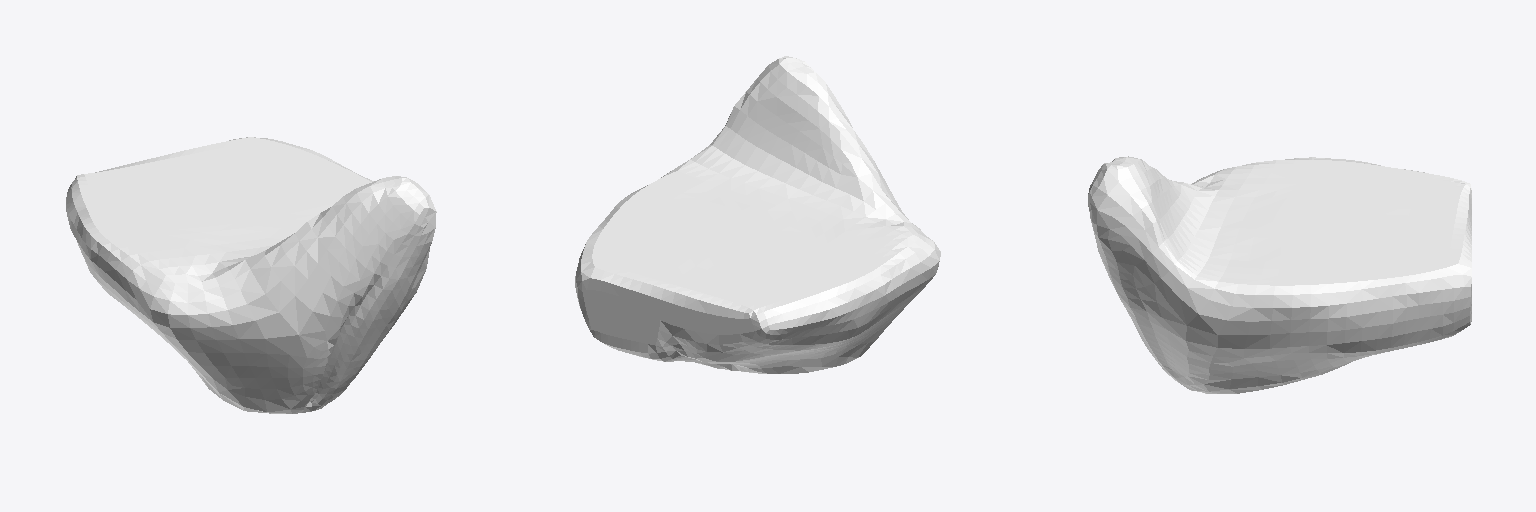
File: land_B.obj
The picture shows the model from 3 angles: view 1: azimuth 30°, elevation 25°; view 2: azimuth 150°, elevation 25°; view 3: azimuth 270°, elevation 25°; orthographic projection.
Visible parts, largest first — view 1: Volume65; view 2: Volume65; view 3: Volume65.
Boxes of the visible parts, <box> form: Volume65: <box>66,137,436,413</box>; Volume65: <box>575,56,940,373</box>; Volume65: <box>1088,156,1471,393</box>.
Size of the model in its own units: 210 by 172 by 246.